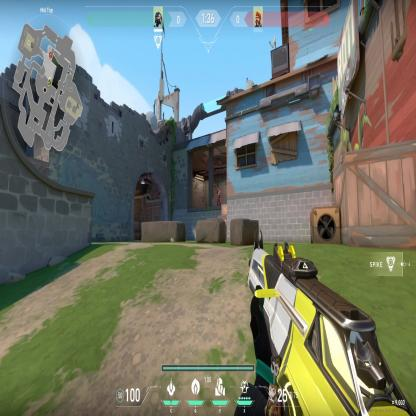enemy: (216, 186, 221, 206)
